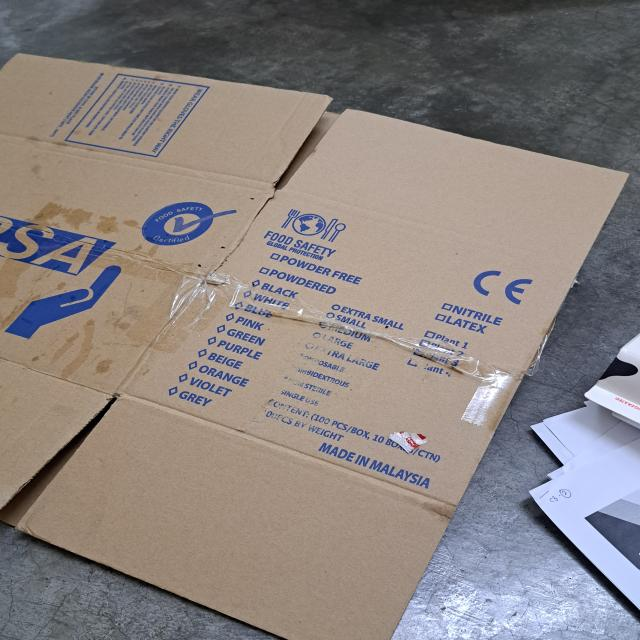cardboard: (0, 50, 629, 639)
paper: (530, 335, 640, 625)
